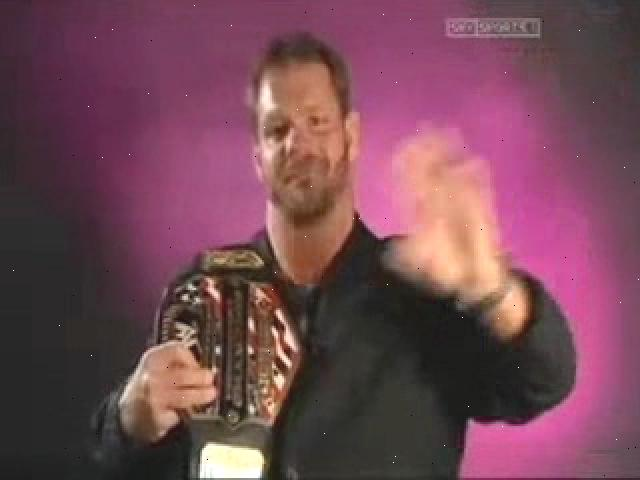L: (90, 33, 574, 477)
